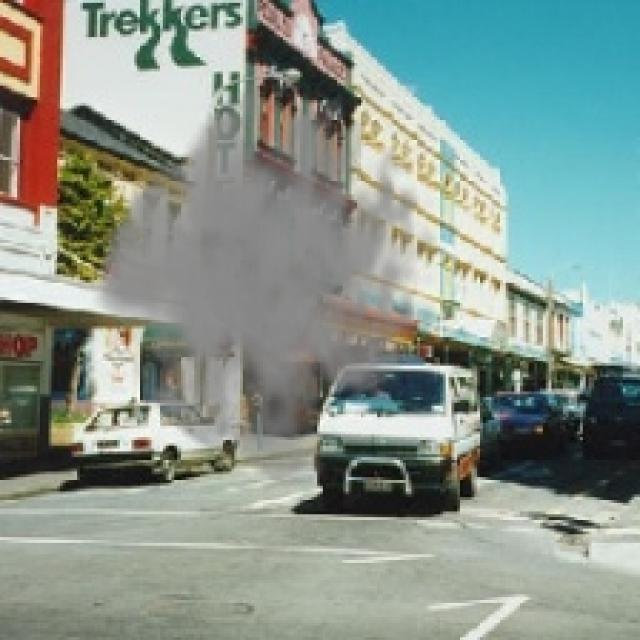Smoke: (91, 68, 440, 494)
